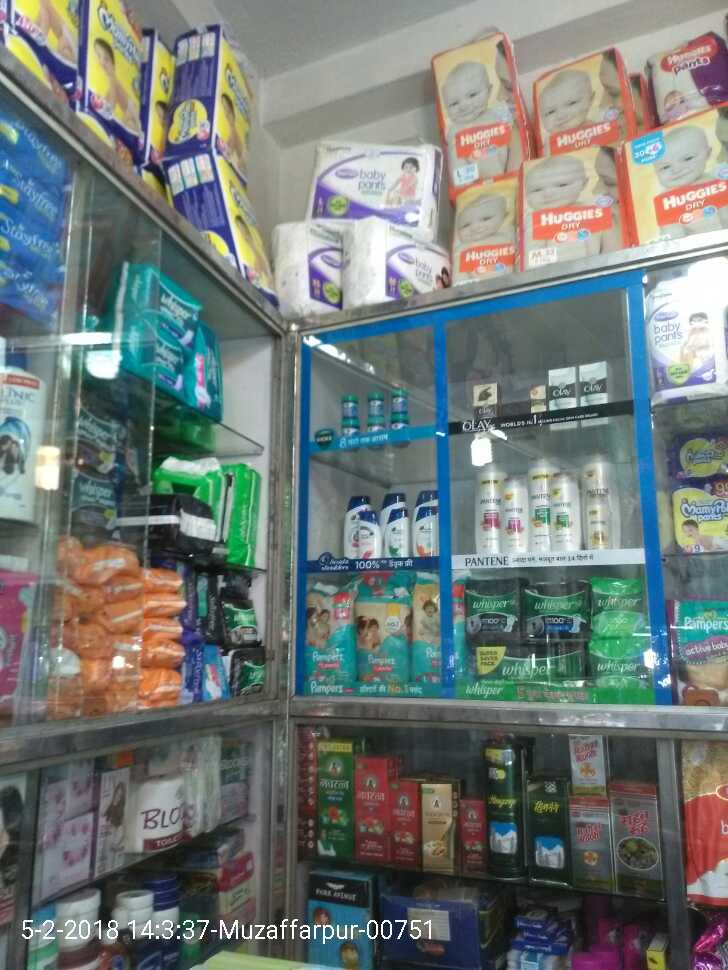vicks: (331, 393, 419, 434)
